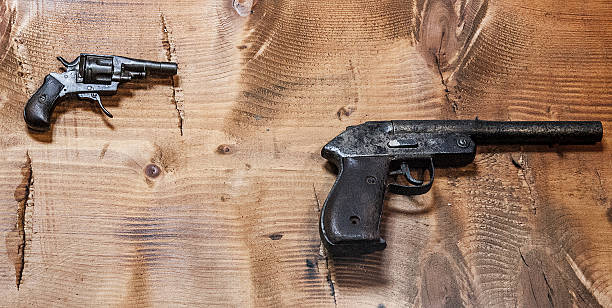gun: (319, 118, 605, 257), (22, 52, 178, 132)
